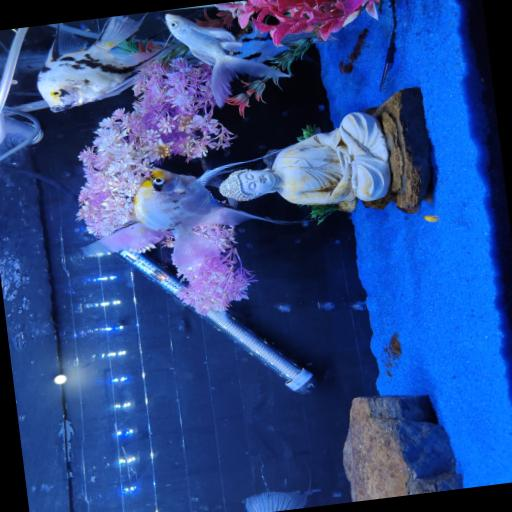Fish: (85, 163, 297, 268), (37, 15, 157, 111), (165, 14, 290, 106), (230, 23, 289, 62), (246, 491, 307, 511), (351, 300, 366, 309), (423, 214, 439, 221)
